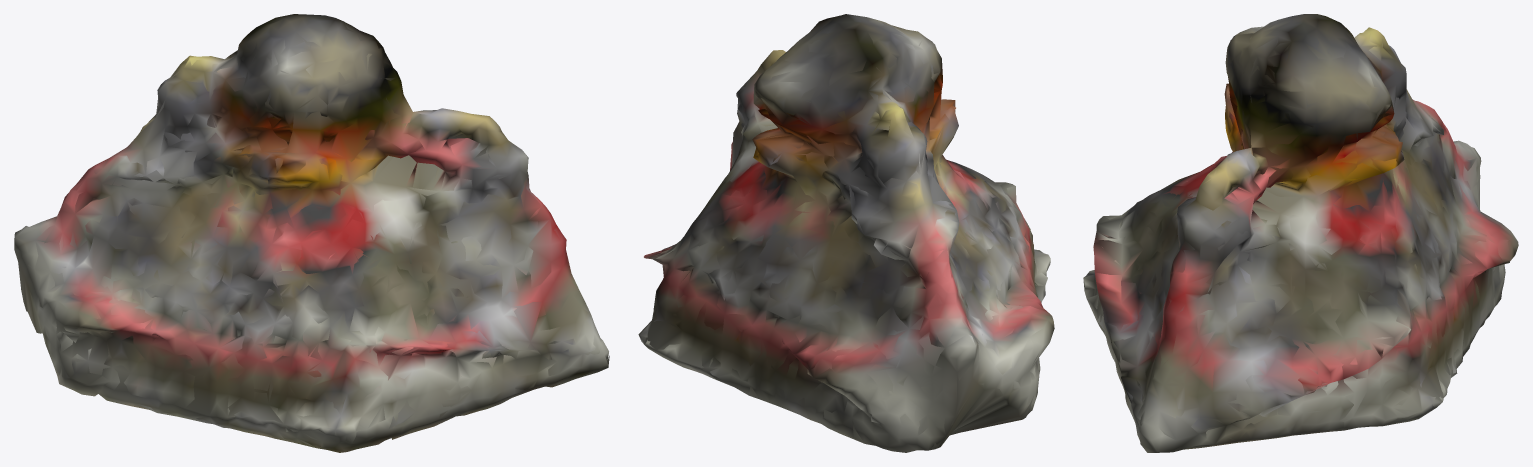
Rendered from soviet_iron_curtain.glb.
3 views of the same model, side by side, from view 1: azimuth 30°, elevation 25°; view 2: azimuth 150°, elevation 25°; view 3: azimuth 270°, elevation 25° (orthographic). The views are drawn at different scales.
Visible parts, largest first — view 1: soviet_iron_curtain; view 2: soviet_iron_curtain; view 3: soviet_iron_curtain.
Part boxes in pixels (bbox=[...]): soviet_iron_curtain: bbox=[14, 14, 609, 452]; soviet_iron_curtain: bbox=[638, 14, 1054, 452]; soviet_iron_curtain: bbox=[1083, 14, 1518, 452].
Size of the model in its own units: 1.92 by 1.41 by 1.68.
